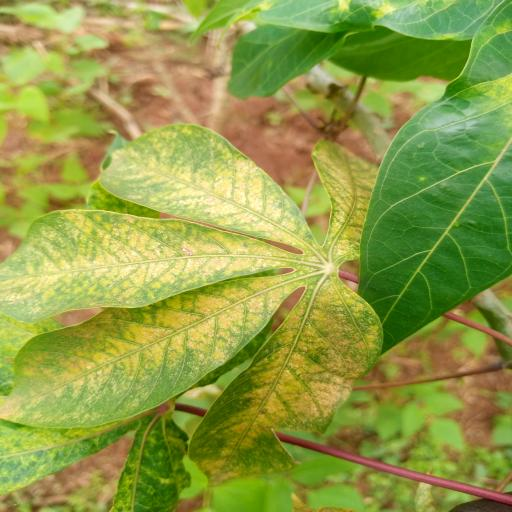Cassava_Mosaic: (0, 122, 374, 511)
